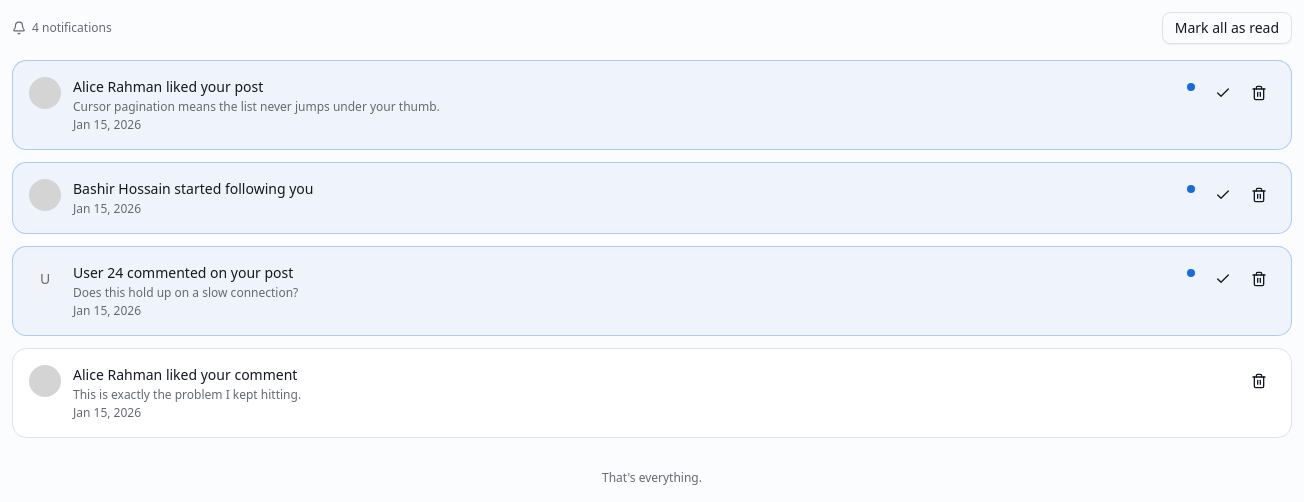
Test: NotificationList › deletes a row and leaves the rest of the inbox alone
Click the button named "Delete notification" in the row of "Bashir Hossain started following you".
click(1259, 195)  # box top-left (1243, 179), bottom-right (1275, 211)
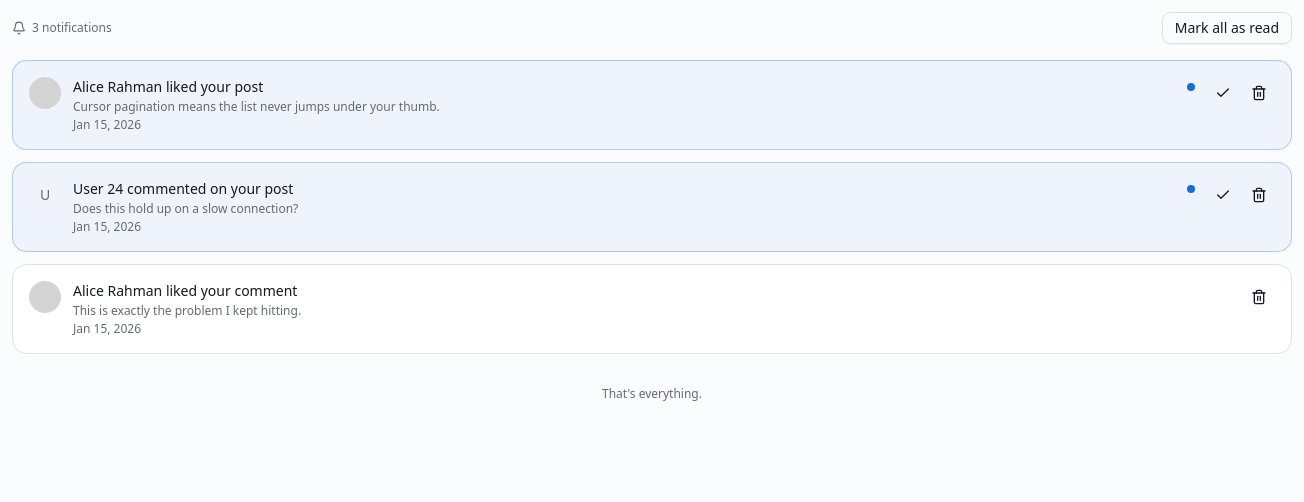
Expected: the text "Alice Rahman liked your post" is shown, top-left (73, 77), bottom-right (263, 96)
Result: the link "Bashir Hossain started following you" is gone
Result: the number of list items is 3 at top-left (12, 60), bottom-right (1292, 150); top-left (12, 162), bottom-right (1292, 252); top-left (12, 264), bottom-right (1292, 354)
